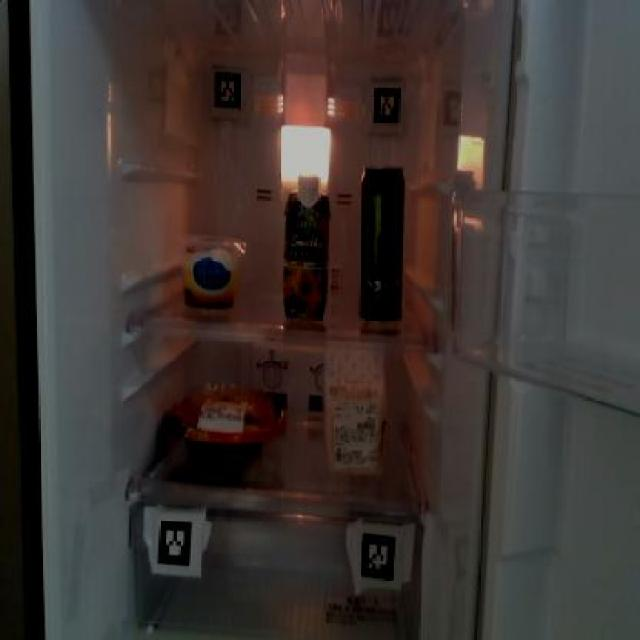bento: (160, 386, 289, 462)
energy_drink: (356, 162, 404, 326)
pudding: (176, 227, 247, 315)
sandwich: (324, 335, 391, 480)
smoothie: (280, 175, 334, 320)
